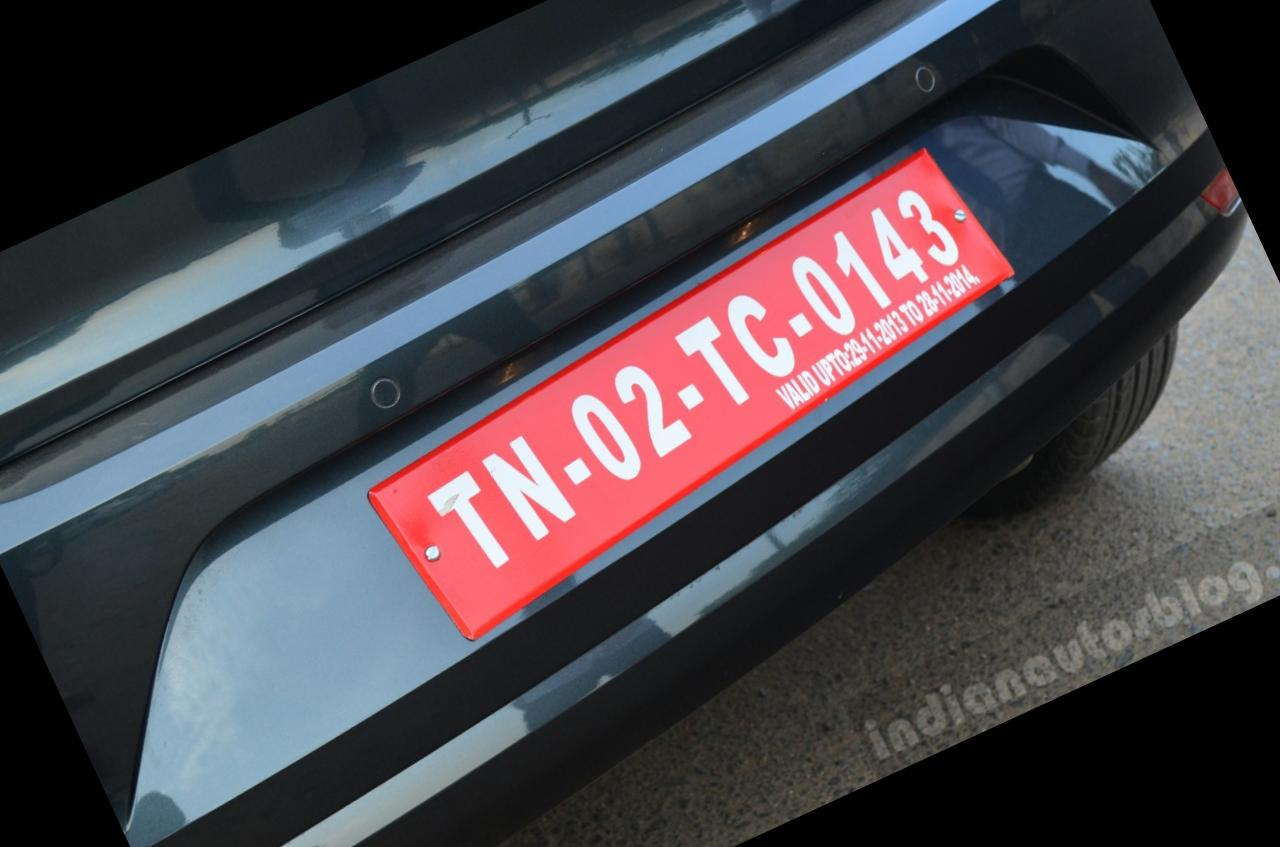plate: (286, 100, 1125, 657)
